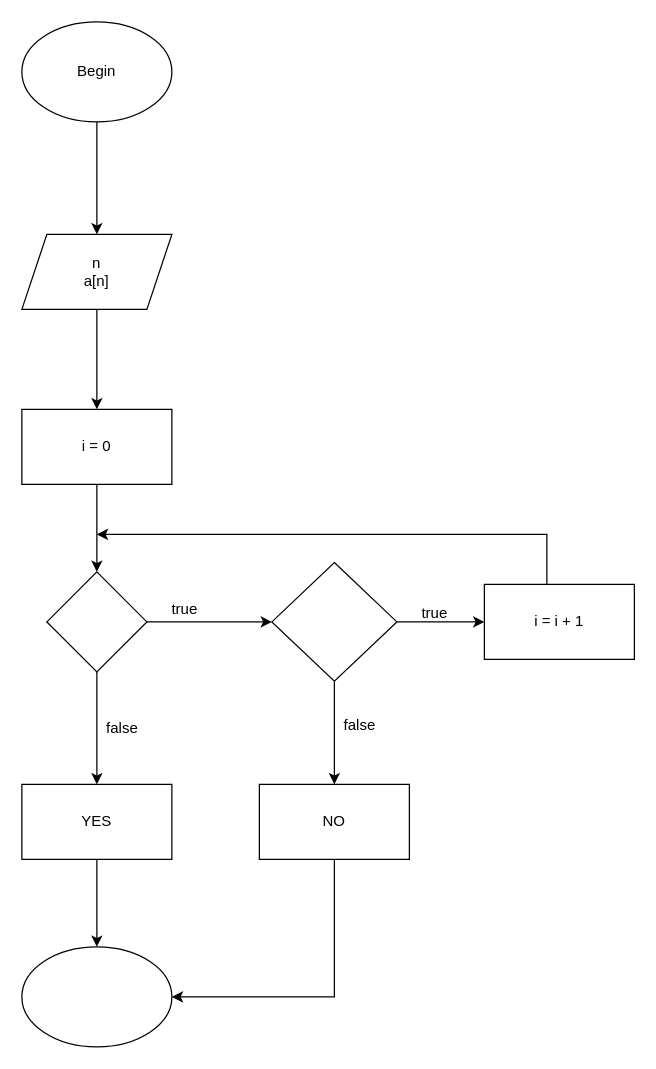
The diagram is 656 pixels wide and 1069 high, and some of its shapes have lost their labels. Here are the shapes that lost their labels. From the top down, the centre of each, then its label:
At point (96, 621): "i < n / 2".
At point (334, 621): "a[i] = a[n - i - 1]".
At point (96, 996): "End".
